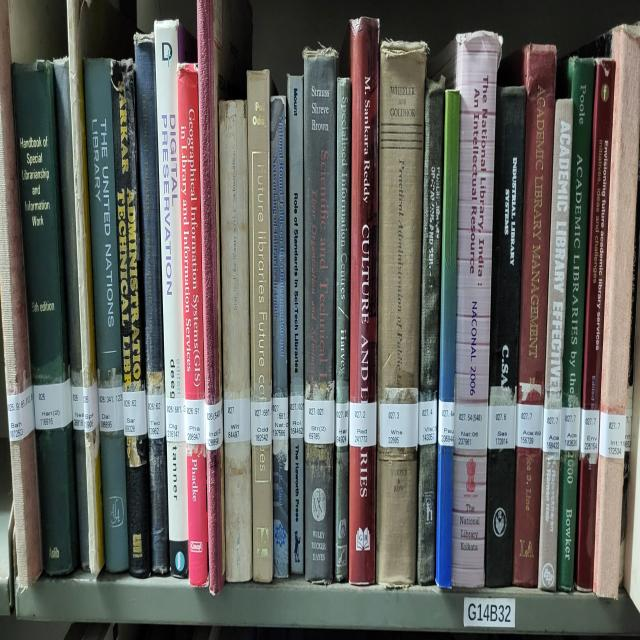Book: (430, 30, 516, 587), (11, 60, 79, 576), (198, 0, 252, 595), (501, 43, 556, 587), (376, 41, 426, 587), (594, 24, 640, 598), (54, 57, 100, 571), (84, 60, 129, 571), (154, 19, 194, 579), (575, 57, 615, 590), (68, 0, 105, 576), (485, 87, 526, 587), (111, 62, 150, 576), (558, 57, 595, 590), (134, 32, 170, 576), (304, 49, 338, 582), (176, 62, 209, 587), (349, 16, 379, 584), (539, 100, 572, 590), (219, 100, 252, 582), (418, 76, 445, 584), (435, 89, 460, 587), (248, 70, 272, 582), (490, 87, 526, 390), (270, 97, 289, 579), (335, 78, 351, 582), (288, 76, 304, 574), (10, 422, 42, 587), (485, 449, 515, 587), (555, 354, 556, 357)
Label: (32, 379, 72, 430), (379, 403, 419, 446), (454, 403, 488, 452), (8, 384, 35, 441), (304, 400, 335, 444), (599, 411, 626, 460), (516, 403, 544, 449), (224, 398, 251, 444), (349, 400, 376, 446), (488, 406, 516, 449), (122, 390, 148, 436), (99, 387, 124, 433), (185, 398, 206, 444), (251, 400, 272, 446), (560, 406, 581, 452), (205, 400, 224, 449), (580, 409, 600, 455), (165, 398, 186, 441), (82, 381, 99, 433), (419, 400, 438, 446), (542, 409, 561, 455), (146, 395, 165, 438), (438, 400, 454, 446), (272, 398, 289, 441), (290, 395, 304, 438), (335, 403, 349, 446), (71, 387, 84, 430)
